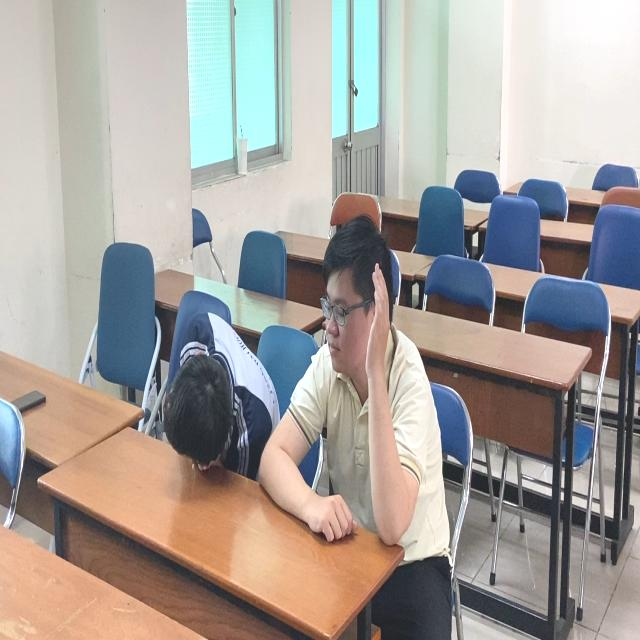raise_hand: (289, 210, 434, 548)
